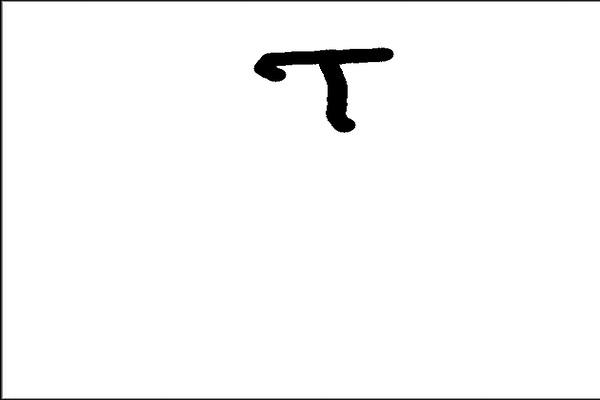T: (245, 42, 404, 132)
